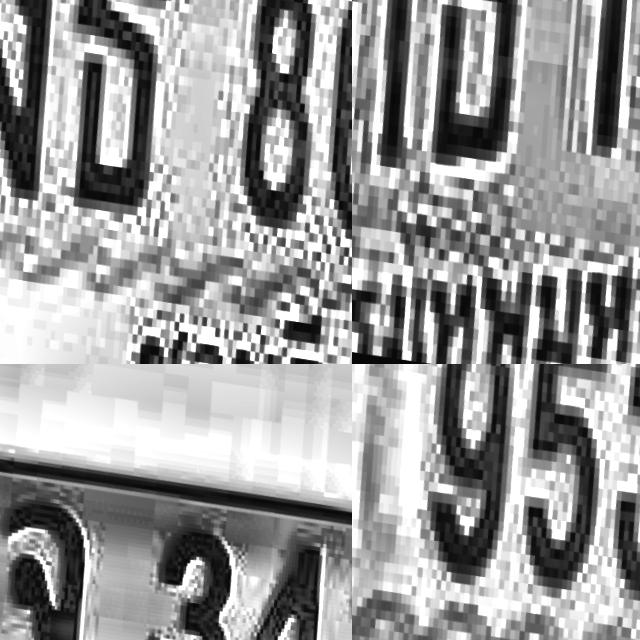license-plate: (0, 0, 352, 364), (352, 0, 640, 364), (0, 406, 352, 640), (352, 364, 640, 640)
